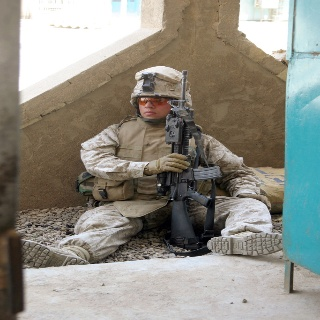rifle: (154, 69, 225, 241)
